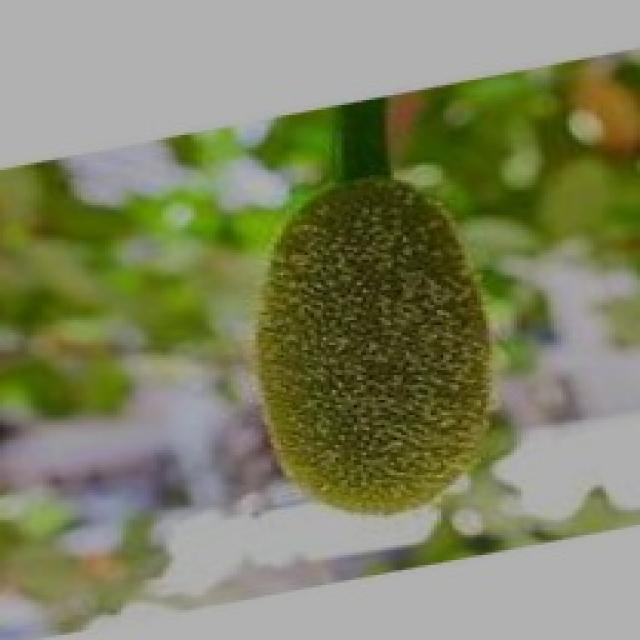Fruit: (215, 150, 536, 542)
